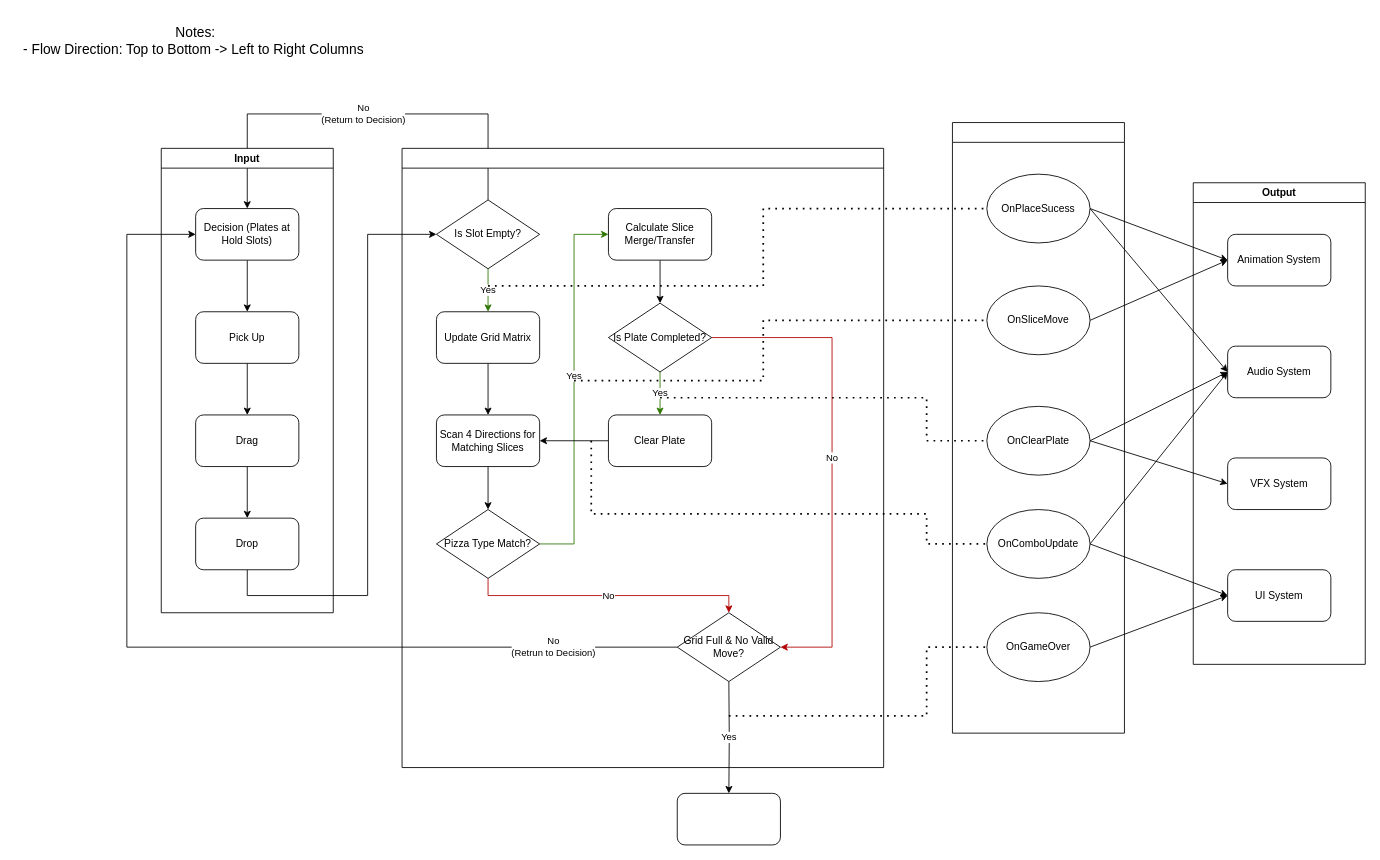
Image size: 1380x860. Some labels were removed from this diagram. The shapes that lost their labels are listed below. From the top down, each one's centre as x and y in pixels, then its label:
At point (1038, 427): "Events".
At point (642, 457): "Logic Core".
At point (728, 818): "Game Over".
